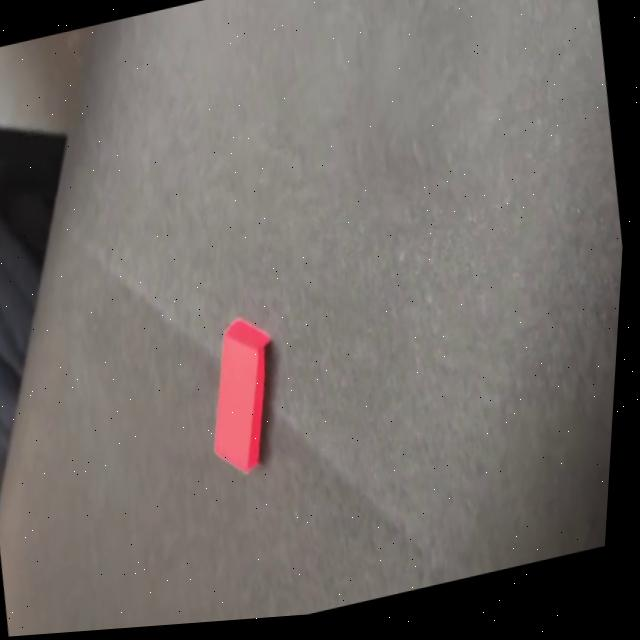red block: (191, 308, 293, 484)
